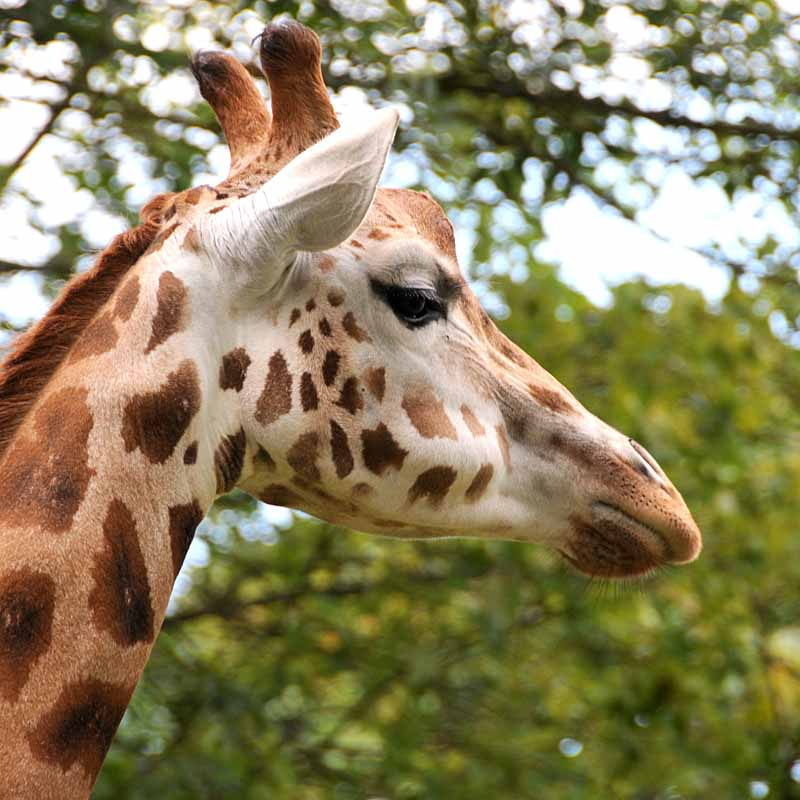giraffe: (14, 33, 686, 678)
